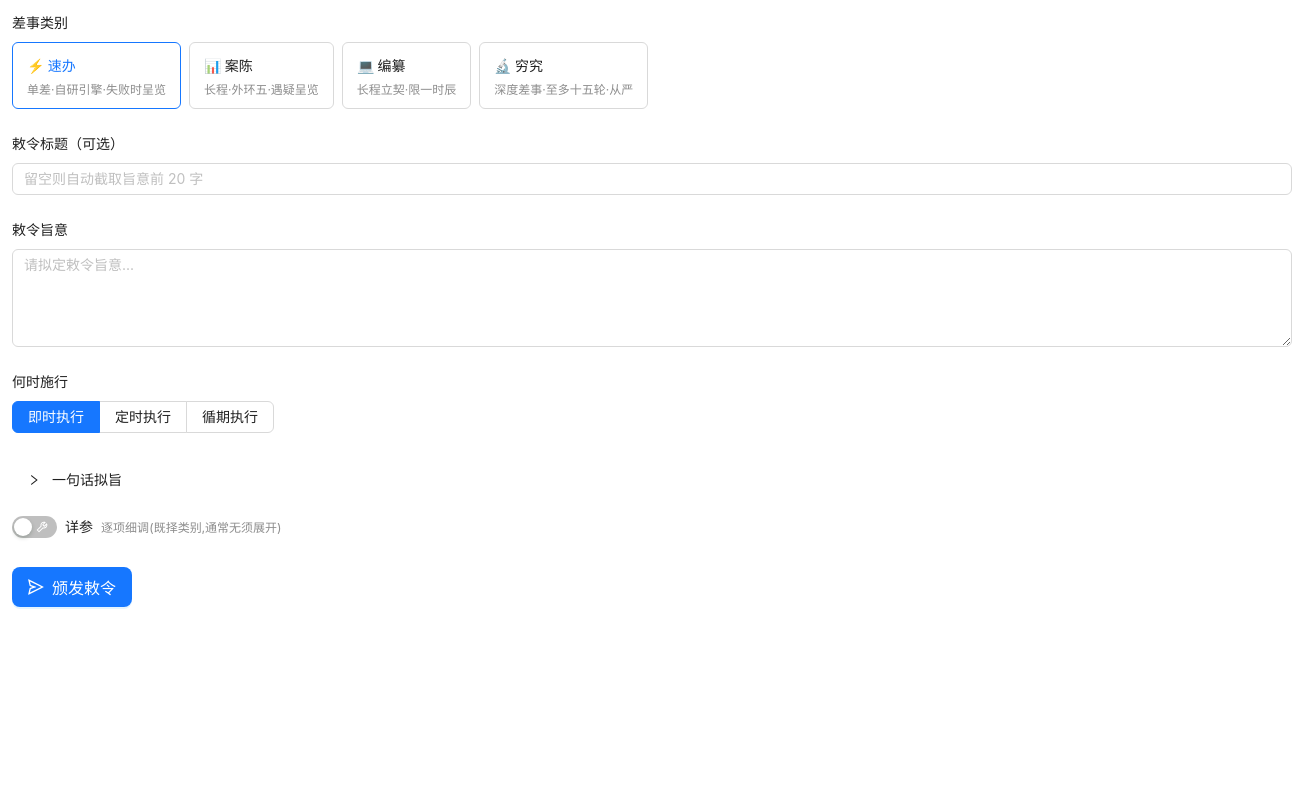
Test: EdictForm UX defaults › converges a recurring schedule to once and disables recurrence for long tasks
Click the radio button labelled "循期执行" at (230, 417), box [186,401,274,433]
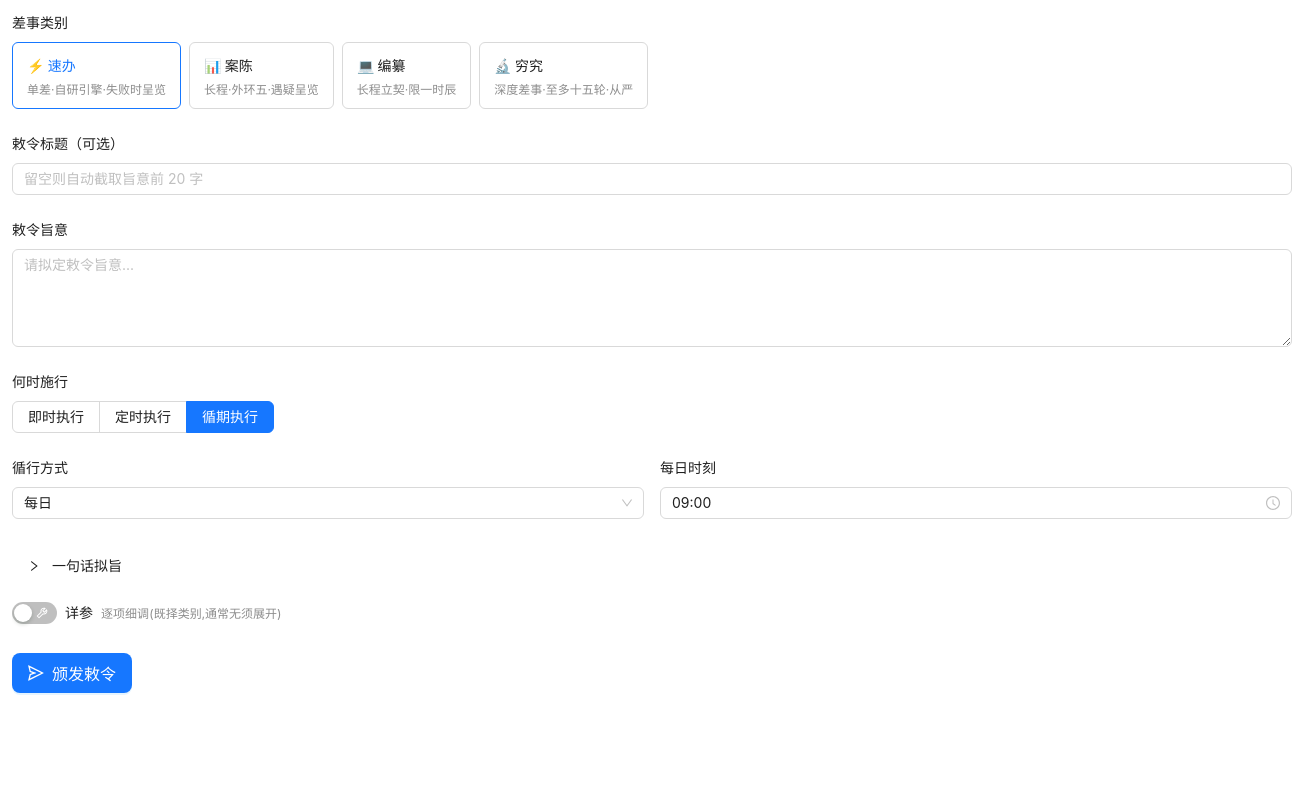
Check: the radio button labelled "循期执行" is checked, box [186,401,274,433]
Click the radio button labelled "📊 案陈 长程·外环五·遇疑呈览" at (261, 75), box [189,42,334,109]
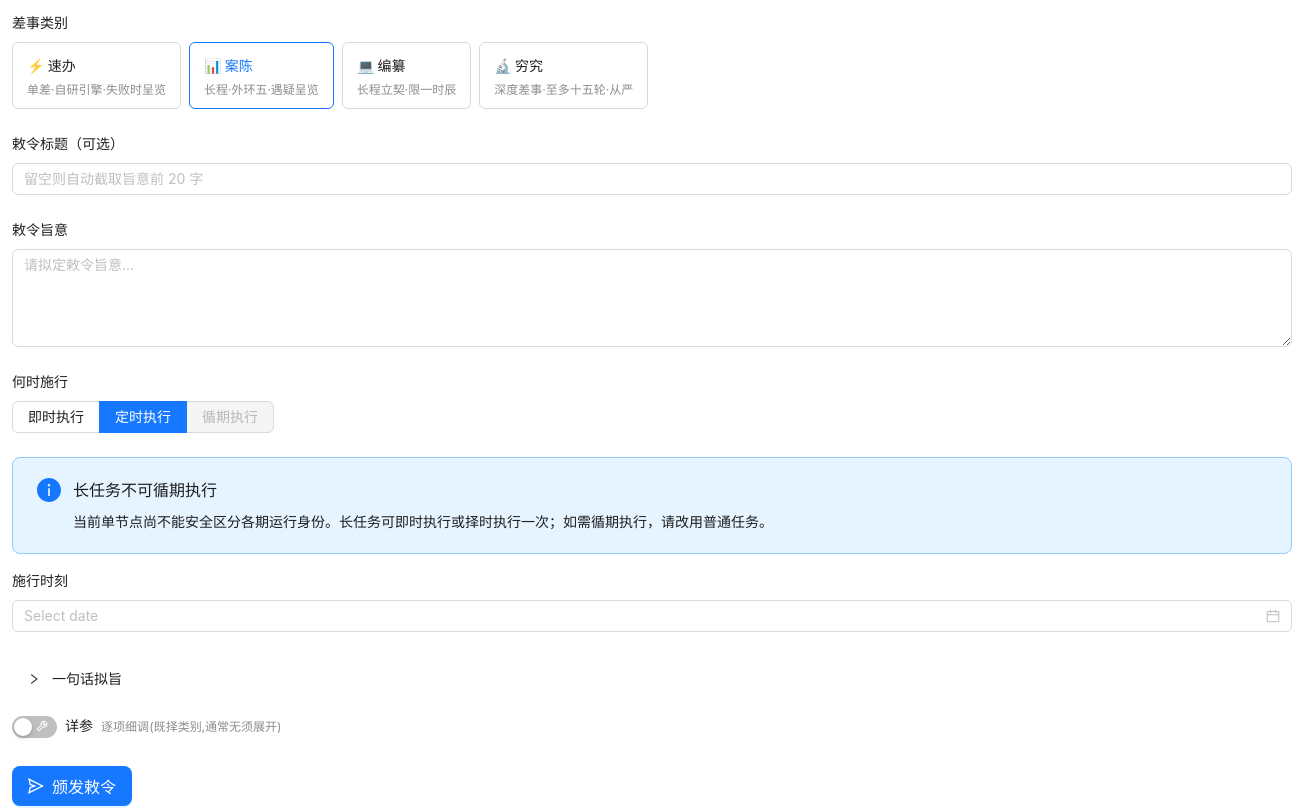
Check: the radio button labelled "定时执行" is checked, box [99,401,187,433]
Check: the radio button labelled "循期执行" is disabled, box [186,401,274,433]
Check: the text "长任务不可循期执行" is shown, box [73,480,217,500]
